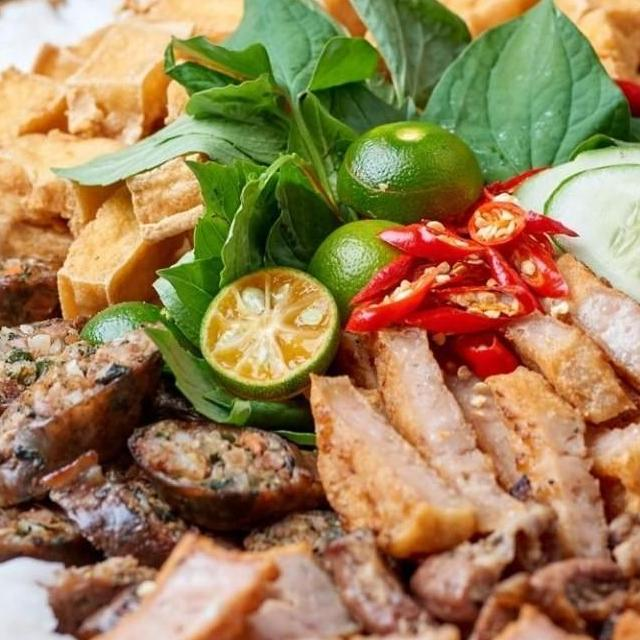bun dau: (0, 0, 640, 640)
cha com: (286, 230, 640, 569)
dau hu: (0, 0, 264, 334), (419, 0, 640, 115)
doi sun: (0, 240, 370, 581)
